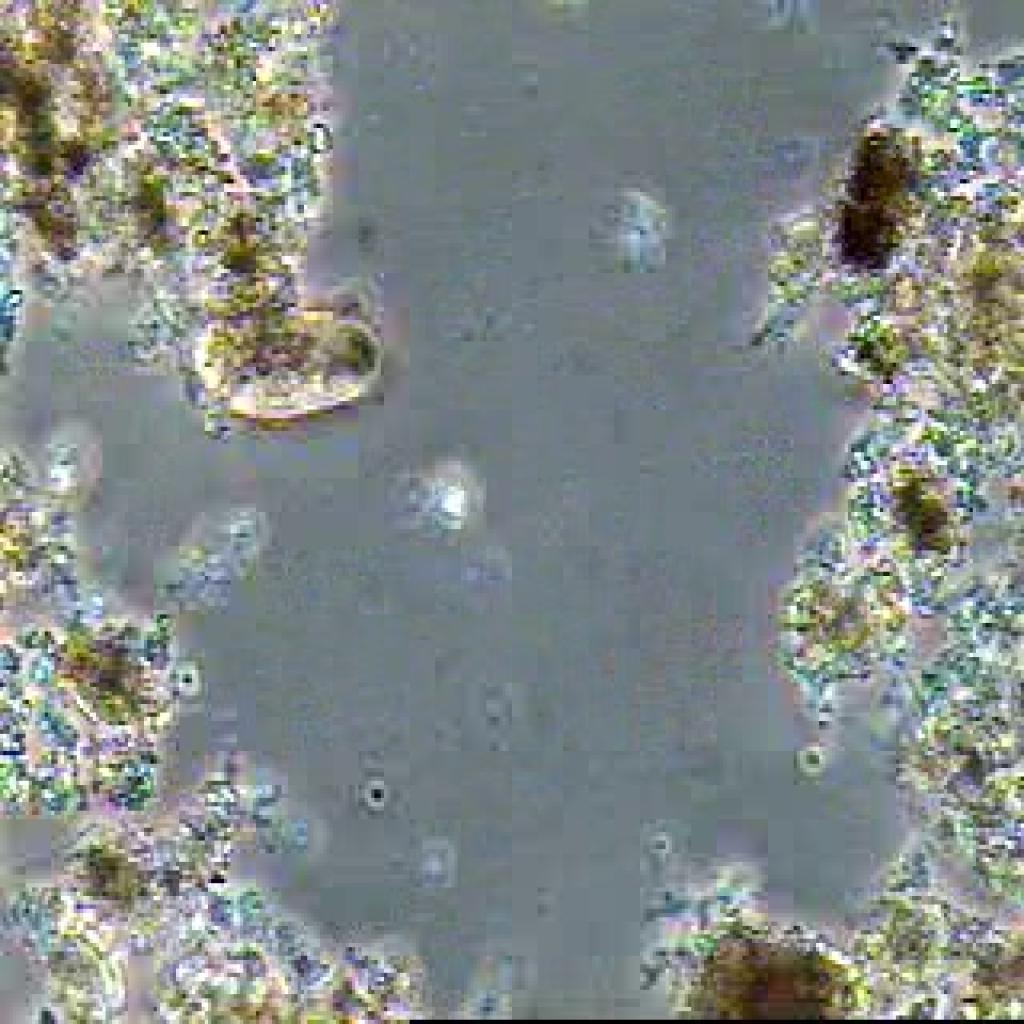Paramecium: (186, 299, 396, 435)
